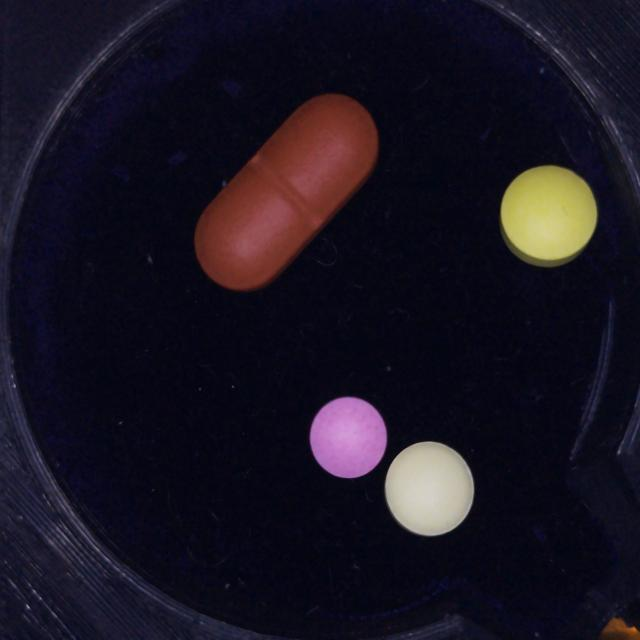Pill: (195, 94, 379, 292), (500, 165, 598, 267), (385, 441, 474, 536), (309, 397, 387, 478)
